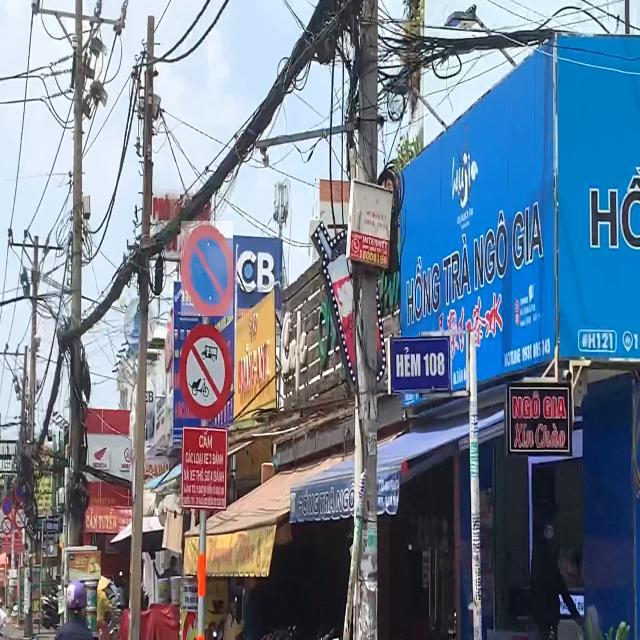P-131a: (181, 221, 233, 316)
